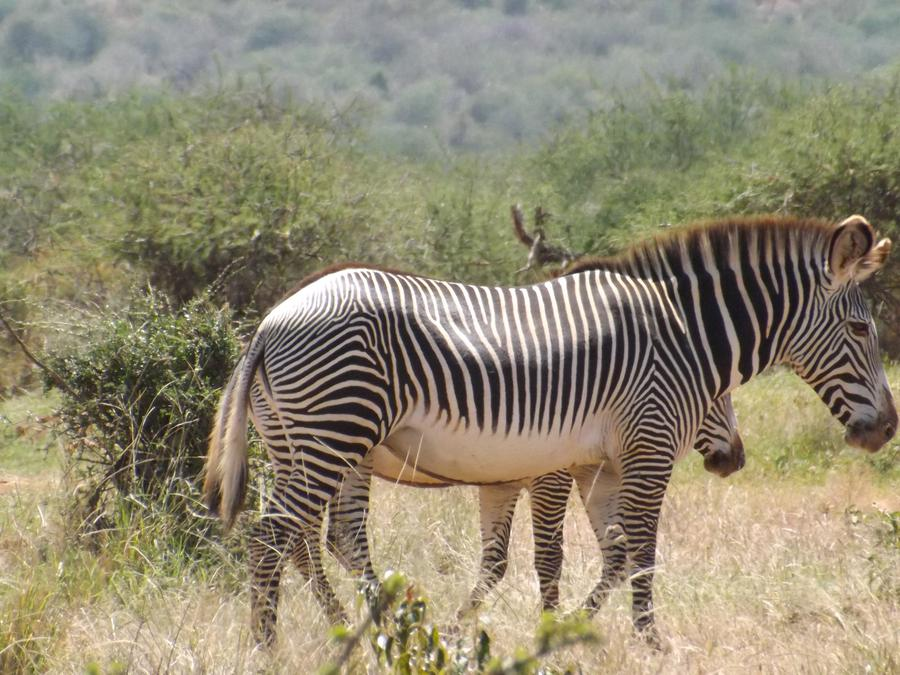zebra_grevys: (230, 252, 687, 458)
